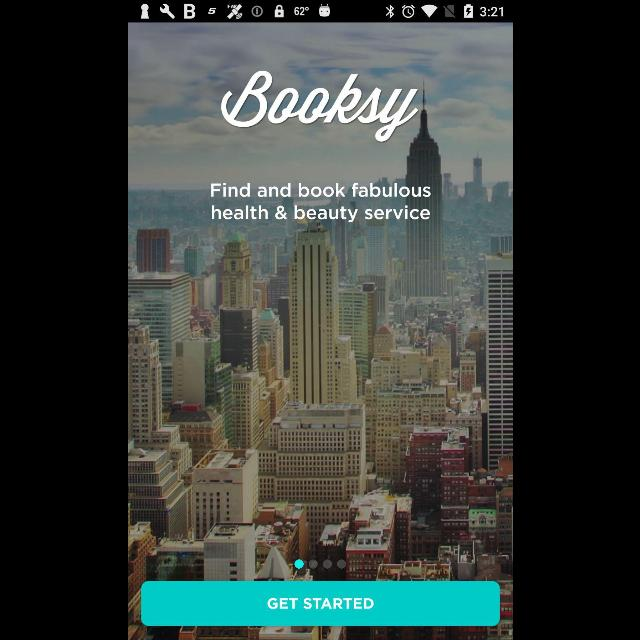backgroundimage: (128, 22, 512, 640)
image: (220, 70, 418, 142)
pageindicator: (294, 559, 346, 569)
text: (210, 182, 430, 224)
textbutton: (140, 580, 500, 626)
uppertaskbar: (128, 1, 512, 23)
